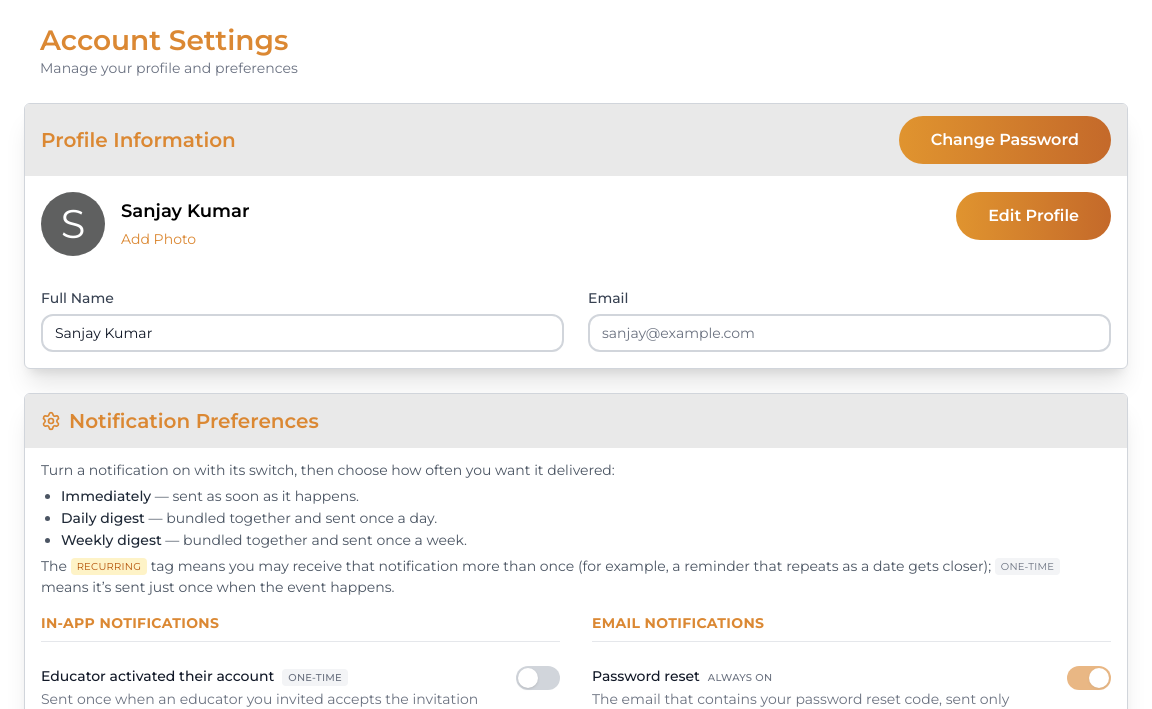
Test: Account Page + Modal Integration › PasswordModal — open / close / submit flow › closes PasswordModal when Cancel is clicked
What coordinates should you click on to do the following:
click the button "Change Password"
I would click on:
 (1005, 140)
Its box is [899,116,1111,164].
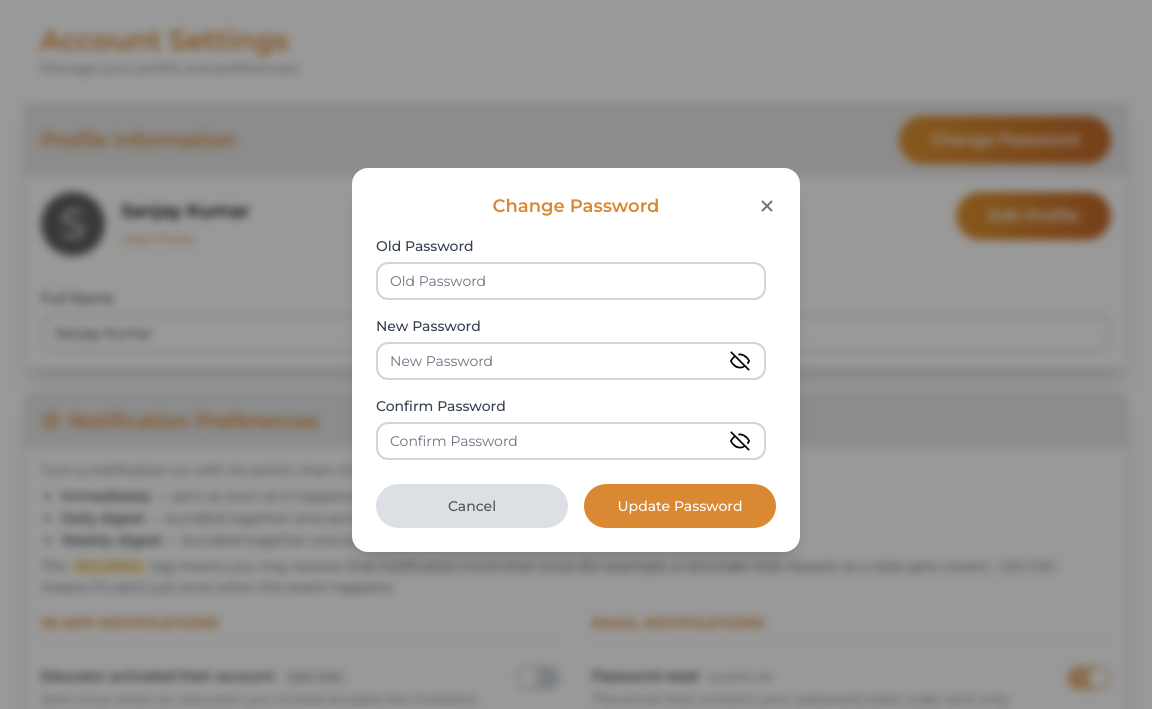
What coordinates should you click on to do the following:
click the button "Cancel"
I would click on:
 (472, 506)
Its box is [376,484,568,528].
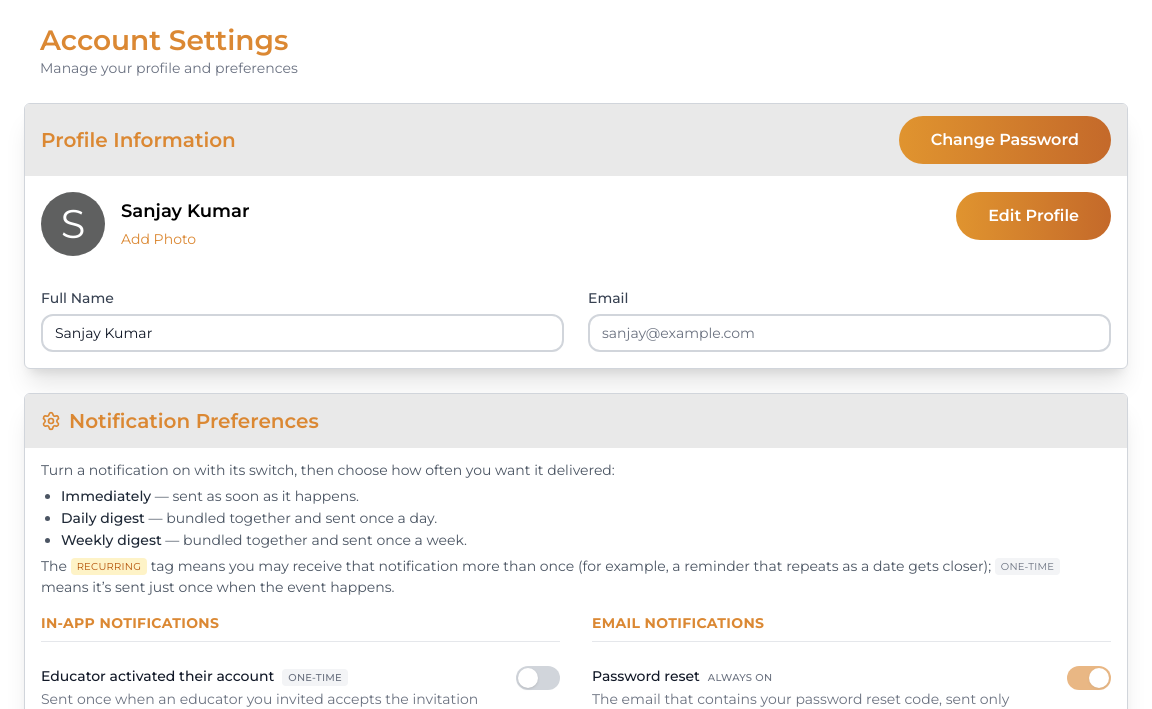
expect the dialog is gone: met
